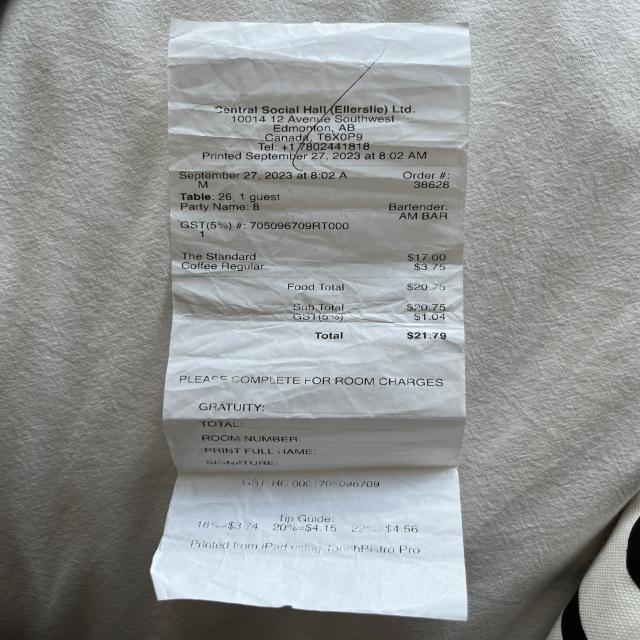item: (180, 260, 451, 274), (180, 249, 450, 263)
store_name: (211, 102, 421, 116)
total_amount: (312, 328, 450, 344)
transaction_date: (175, 169, 296, 182)
